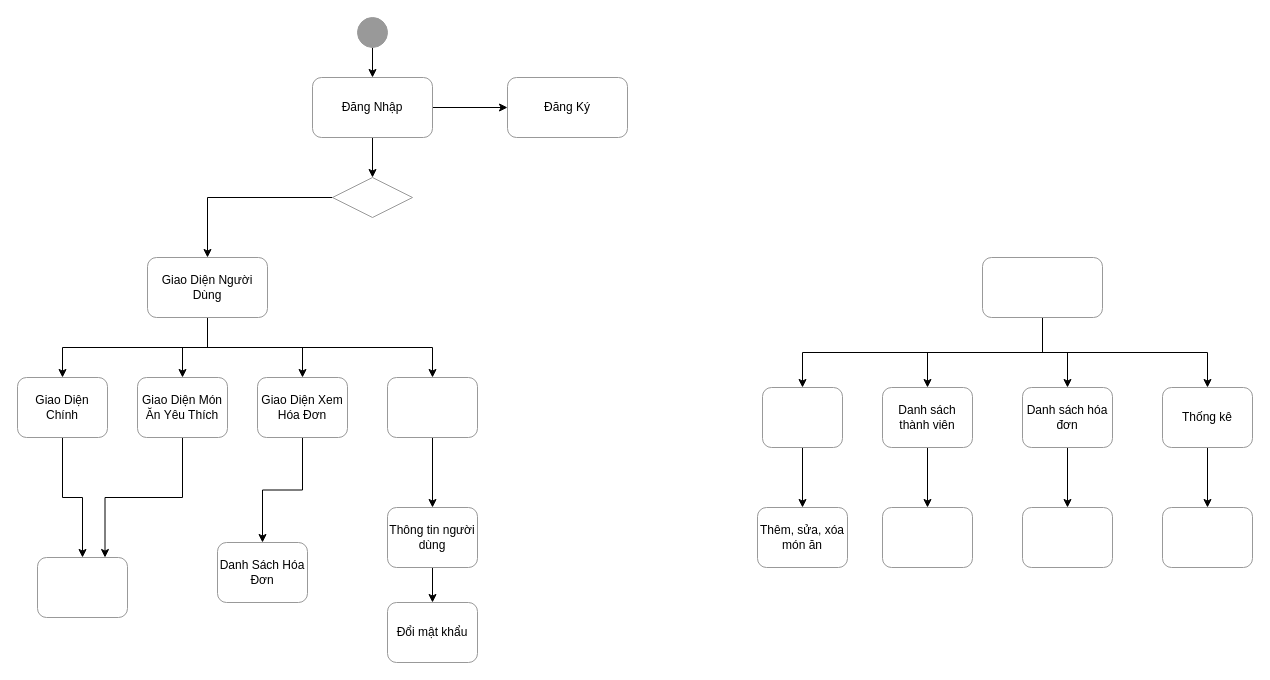
This 1270x680 diagram has some shape labels left out. The shapes that lost their labels are listed below. From the top down, each one's box as (x1, y1, x2, y2) in pixels, then its label:
(982, 256, 1102, 318): Giao Diện Quản Trị Viên
(386, 376, 478, 438): Giao Diện Thông TIn
(762, 386, 842, 448): Danh sách món ăn
(882, 506, 972, 568): Thêm,sửa,xóa thành viên
(1022, 506, 1112, 568): Xóa hóa đơn
(1162, 506, 1252, 568): Top món ăn bán chạy
(36, 556, 128, 618): Mua Đồ Ăn
